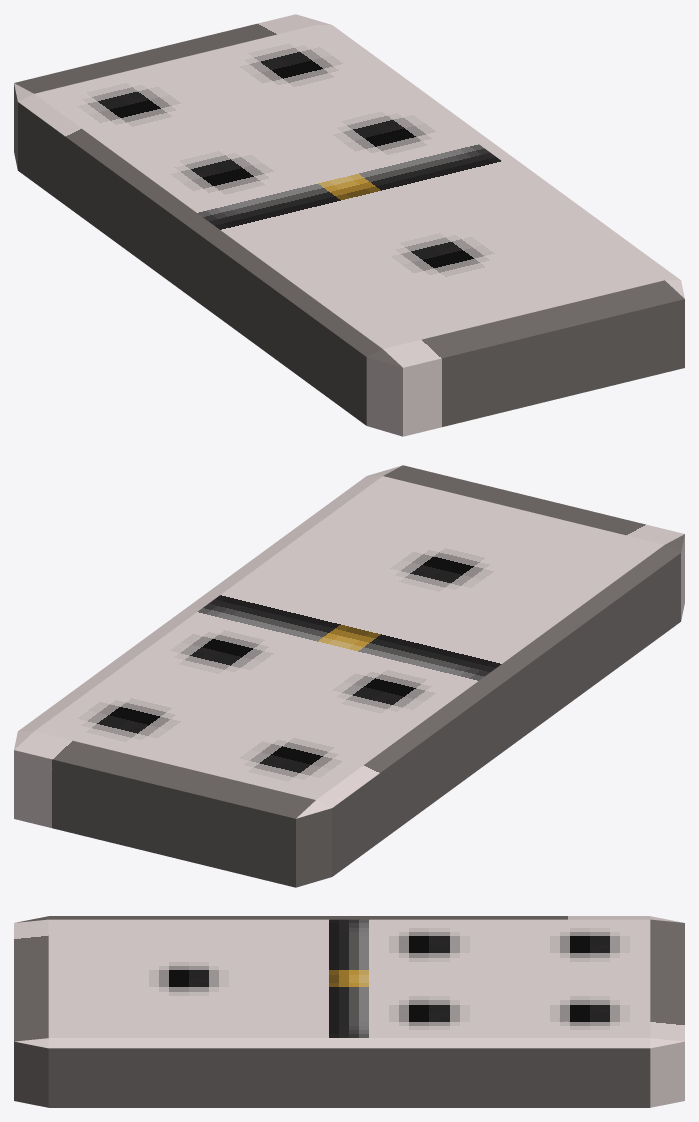
File: dominos.fbx
3 views of the same model, one above another, from view 1: azimuth 30°, elevation 25°; view 2: azimuth 150°, elevation 25°; view 3: azimuth 270°, elevation 25° (orthographic). The views are drawn at different scales.
Parts seen in each view (by area): view 1: Cube; view 2: Cube; view 3: Cube.
Boxes of the visible parts, <box> form: Cube: <box>14,14,684,436</box>; Cube: <box>14,465,684,887</box>; Cube: <box>14,916,684,1107</box>.
Bounding box in the file's own units: 6.85 × 1.6 × 14.68.
